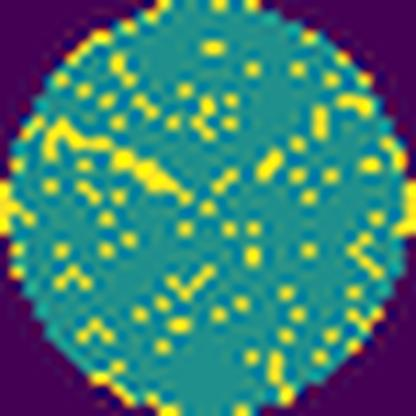Loc: (41, 113, 194, 207)
